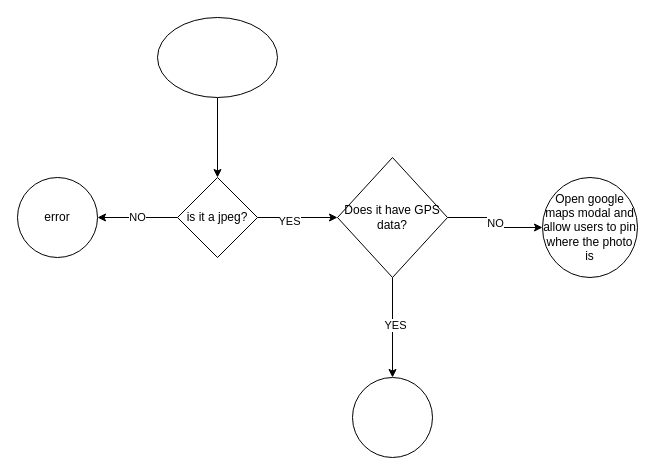
Image size: 655x475. Some labels were removed from this diagram. Here are the shapes that lost their labels. From the top down, the box of each, then its label:
(156, 16, 278, 98): Select photo
(352, 376, 432, 458): display in google maps where it is showing
